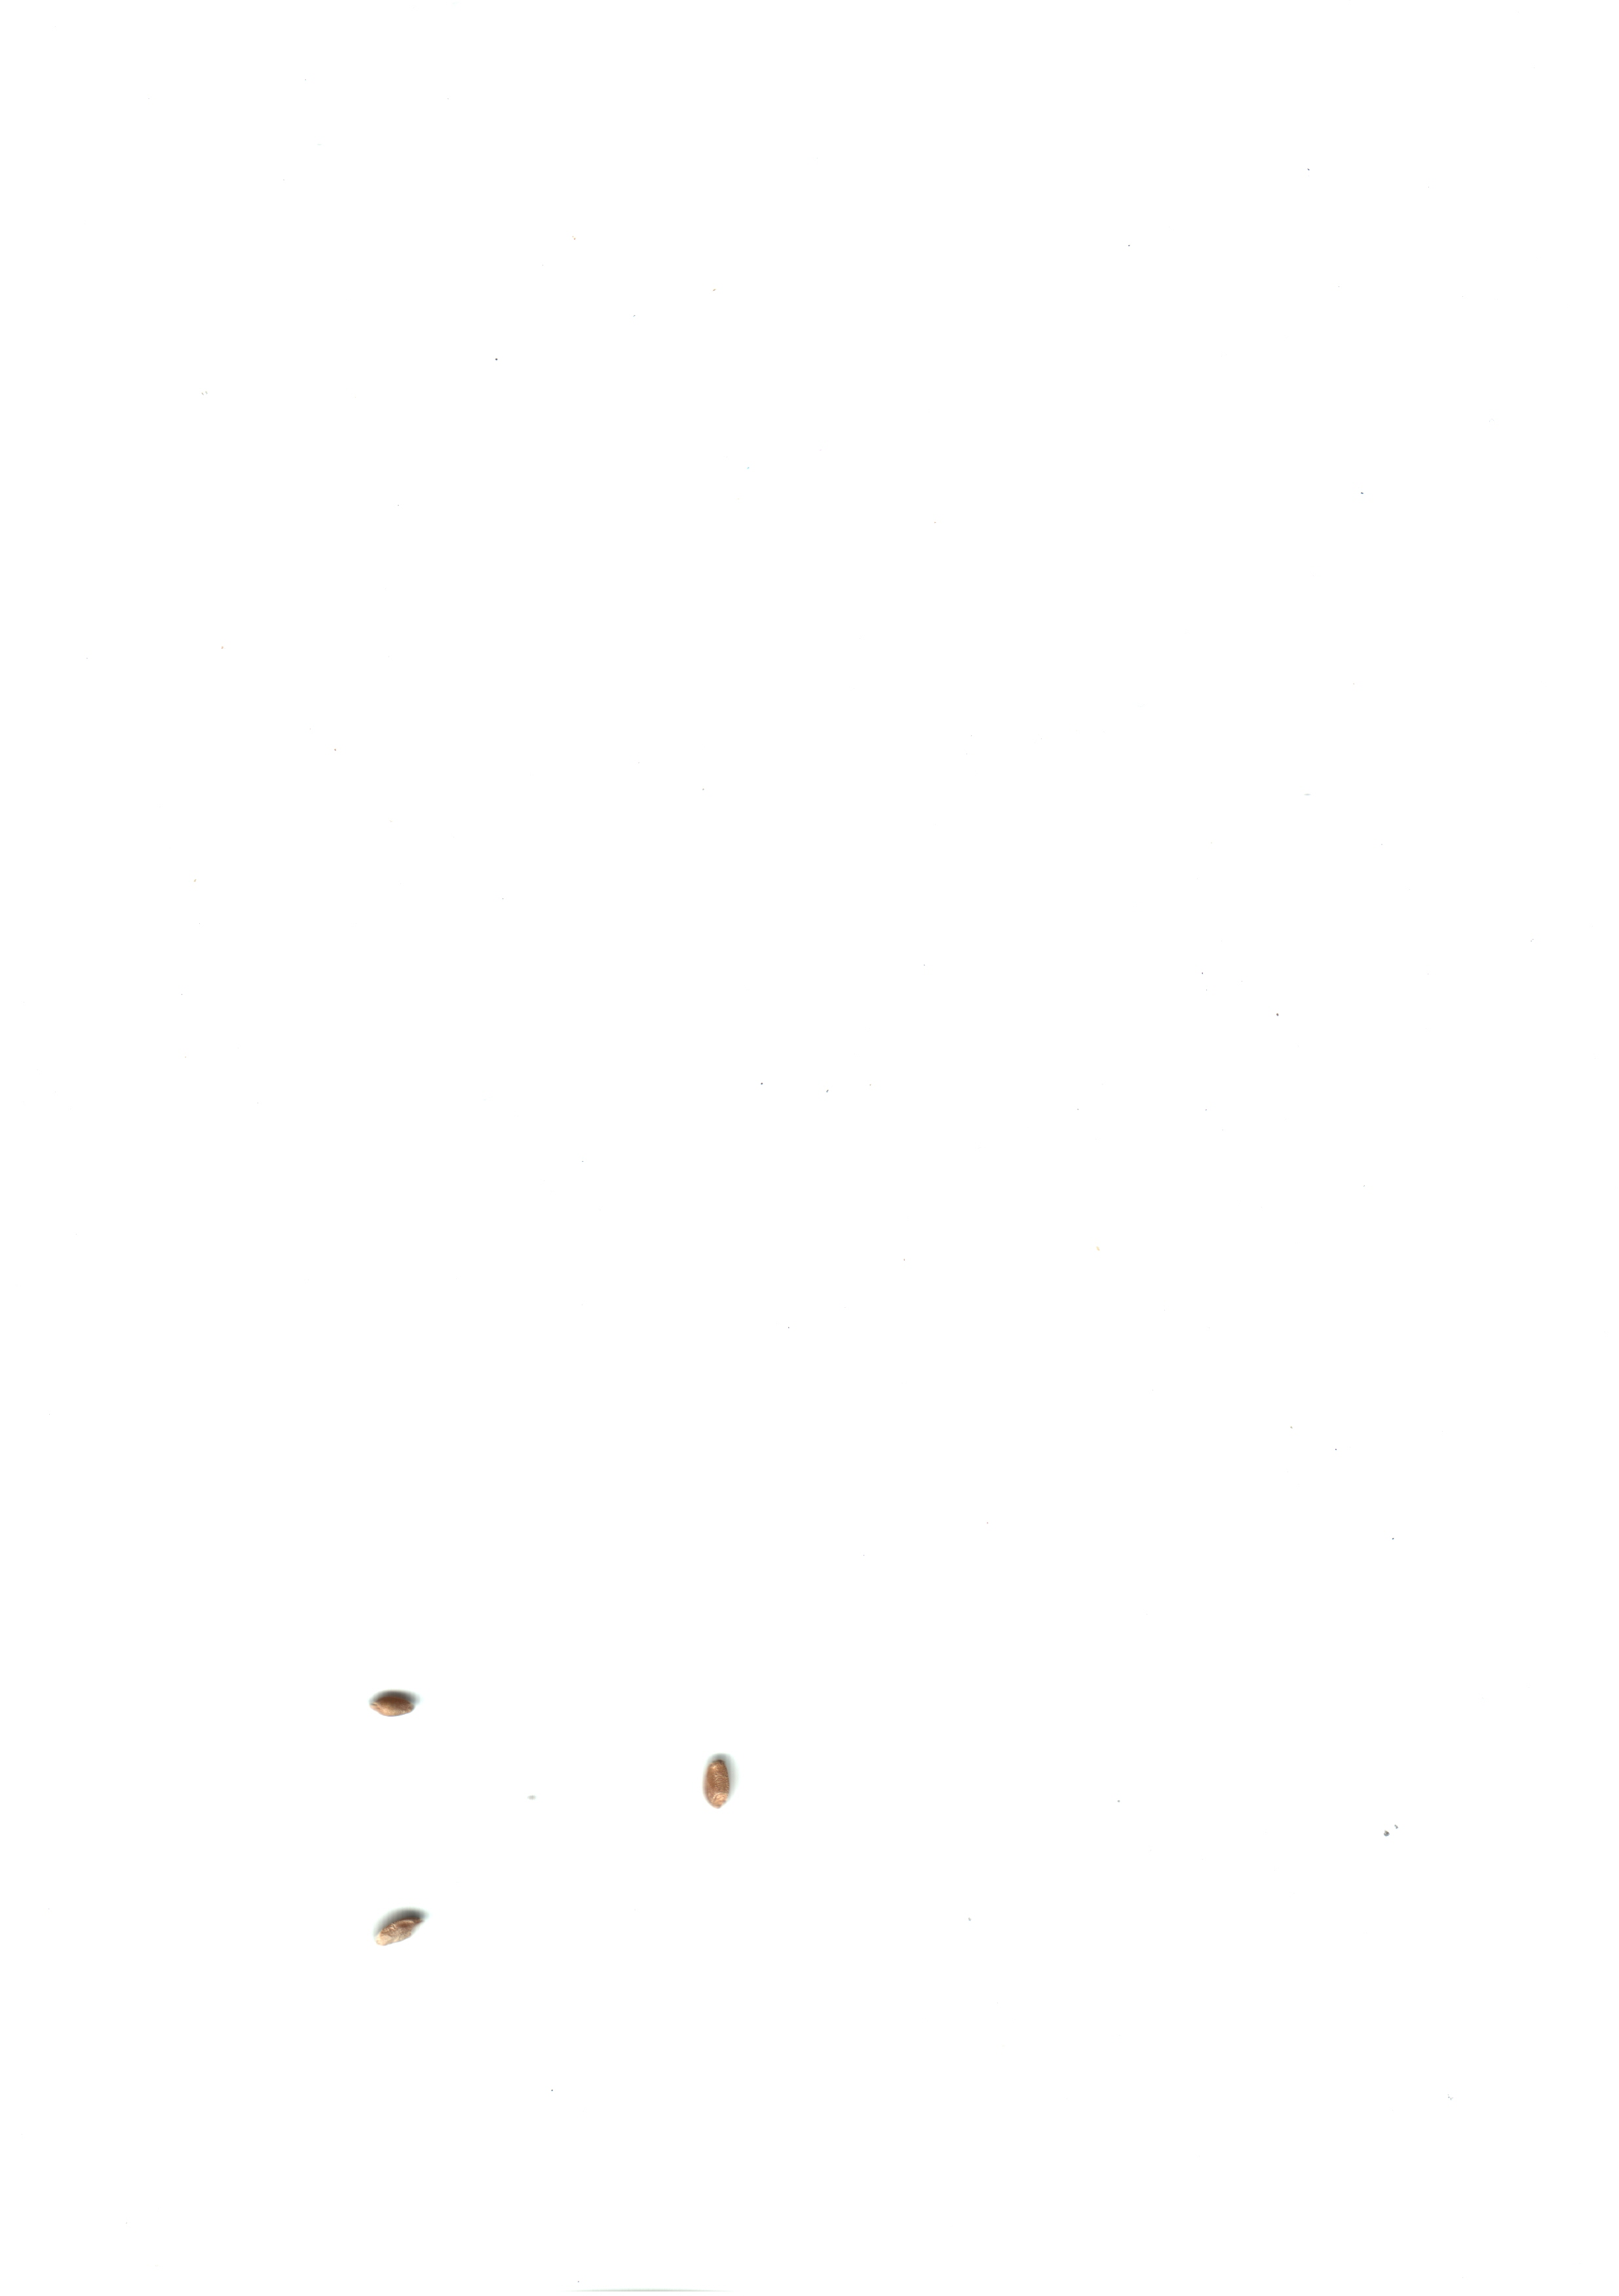grains_2_5mm: (682, 1740, 764, 1830), (364, 1877, 445, 1966), (361, 1658, 442, 1747)
